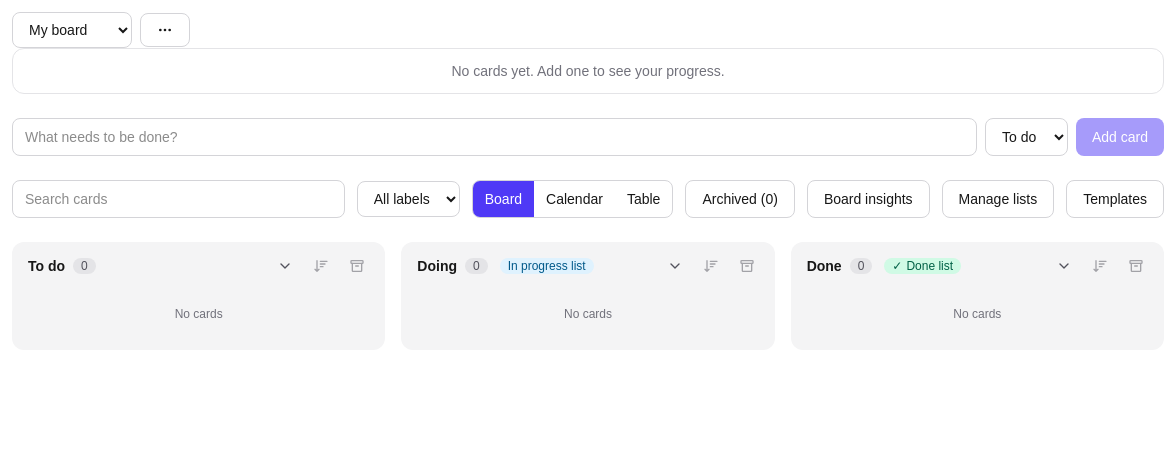
Scenario: <BoardSwitcher /> roles › shows only Leave to an editor, and groups the boards
The width and height of the screenshot is (1176, 459).
What coordinates should you click on to do the following:
click the button named "Board actions"
I would click on:
 (165, 30)
Its box is [140,13,190,47].
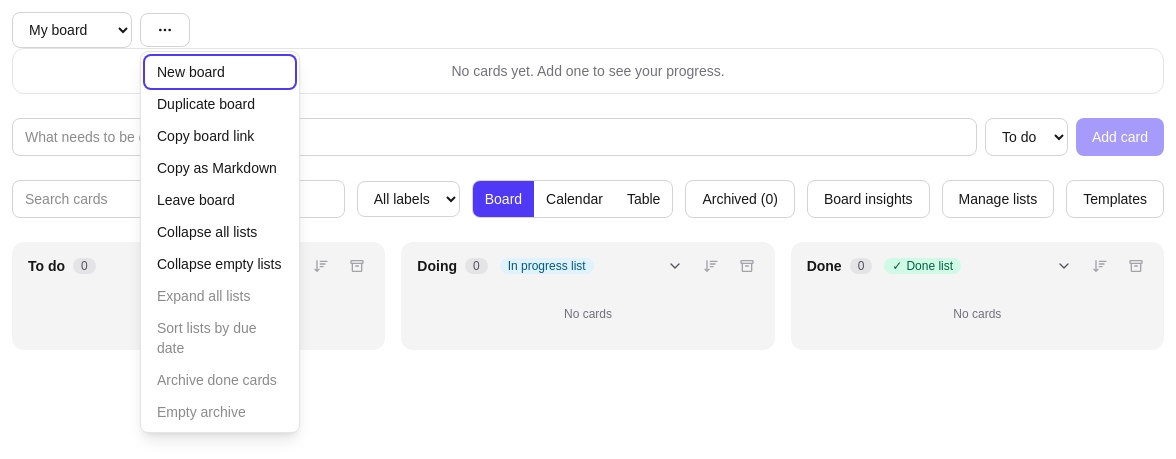
Expected: the menu item "Leave board" is shown, [145,184,295,216]
